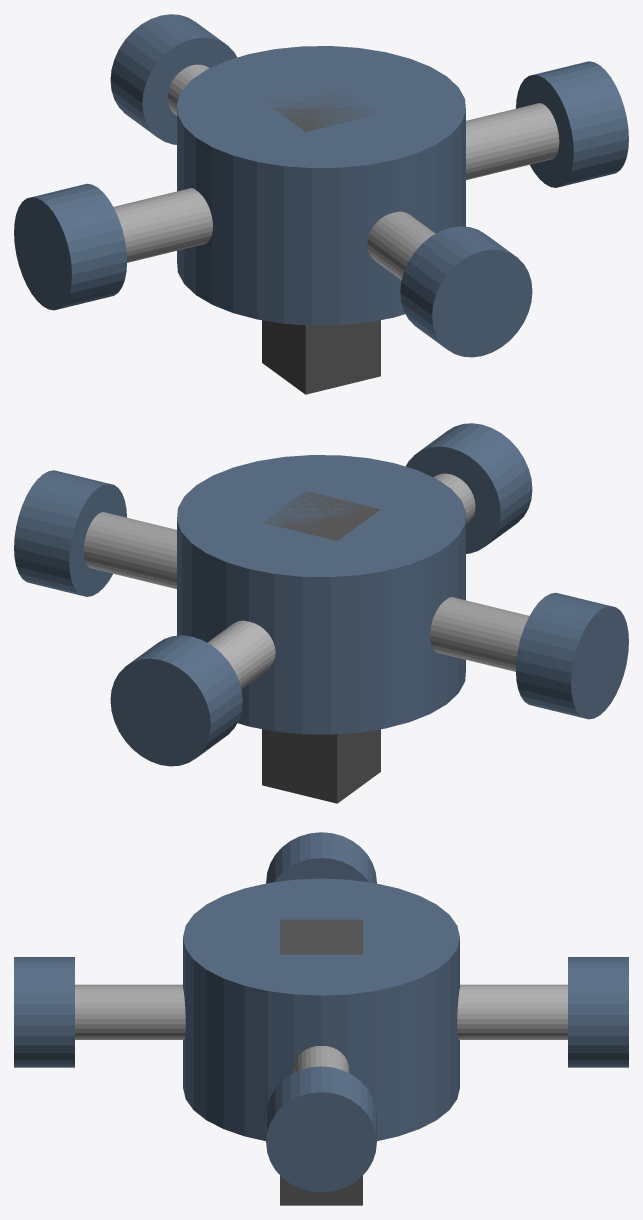
File: button.glb
The picture shows the model from 3 angles, top to bottom: view 1: azimuth 30°, elevation 25°; view 2: azimuth 150°, elevation 25°; view 3: azimuth 270°, elevation 25°; orthographic projection. The views are drawn at different scales.
Visible parts, largest first — view 1: 柱体, 柱体.005, 柱体.007, 柱体.006, Cube, 柱体.008, 柱体.003, 柱体.002, 柱体.004, 柱体.001; view 2: 柱体, 柱体.008, 柱体.007, Cube, 柱体.006, 柱体.005, 柱体.003, 柱体.002, 柱体.001, 柱体.004; view 3: 柱体, 柱体.006, 柱体.005, 柱体.008, 柱体.001, 柱体.004, Cube, 柱体.007, 柱体.003.
Part boxes in pixels (box(x1,y1,x2,y2)): 柱体: box(177, 46, 465, 325); 柱体.005: box(400, 226, 532, 357); 柱体.007: box(14, 183, 126, 310); 柱体.006: box(516, 61, 628, 187); Cube: box(262, 90, 380, 394); 柱体.008: box(110, 14, 237, 144); 柱体.003: box(466, 103, 559, 179); 柱体.002: box(113, 188, 212, 262); 柱体.004: box(367, 211, 435, 279); 柱体.001: box(167, 64, 209, 115); 柱体: box(177, 455, 465, 734); 柱体.008: box(110, 635, 242, 766); 柱体.007: box(516, 592, 628, 719); Cube: box(262, 491, 380, 803); 柱体.006: box(14, 470, 126, 596); 柱体.005: box(405, 423, 532, 553); 柱体.003: box(83, 512, 176, 588); 柱体.002: box(430, 597, 529, 671); 柱体.001: box(207, 620, 275, 688); 柱体.004: box(433, 473, 475, 524); 柱体: box(183, 878, 459, 1140); 柱体.006: box(266, 1066, 376, 1192); 柱体.005: box(14, 957, 74, 1067); 柱体.008: box(568, 957, 628, 1067); 柱体.001: box(457, 984, 567, 1039); 柱体.004: box(75, 984, 185, 1039); Cube: box(280, 919, 362, 1205); 柱体.007: box(266, 832, 376, 883); 柱体.003: box(293, 1046, 349, 1072).
Size of the model in its own units: 2.22 by 1 by 2.22.
